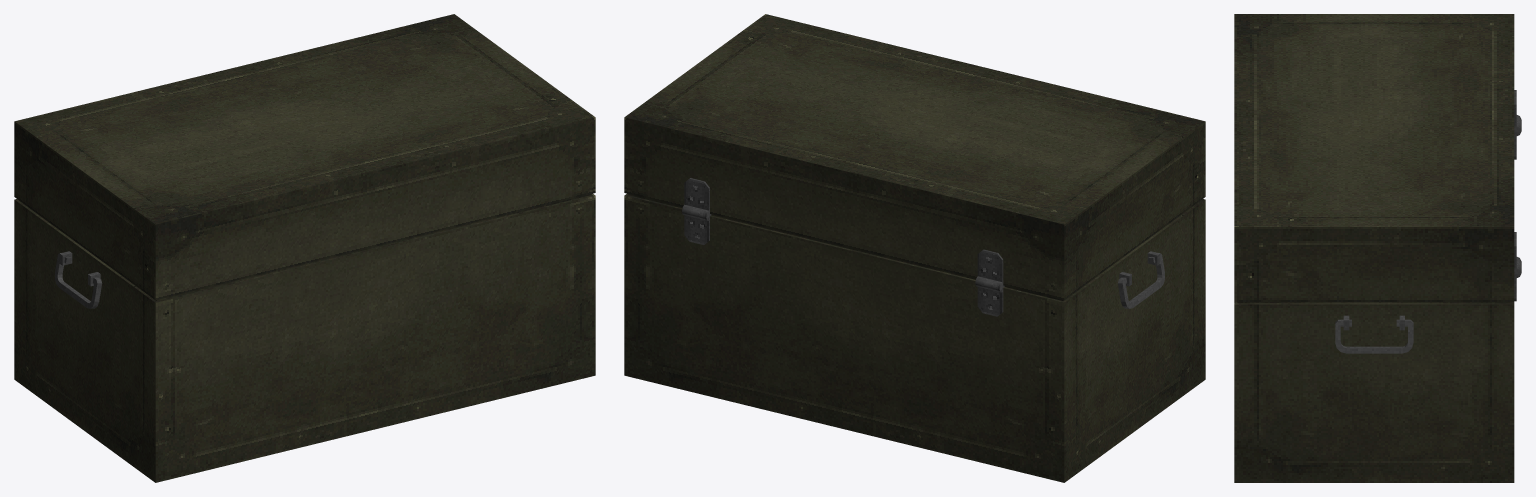
The model's file is wooden_crate_2_a.glb.
3 renders of one model, left to right at view 1: azimuth 30°, elevation 25°; view 2: azimuth 150°, elevation 25°; view 3: azimuth 270°, elevation 25°, orthographic.
Visible parts, largest first — view 1: wooden_crate_2_a, wooden_crate_2_a_lid; view 2: wooden_crate_2_a, wooden_crate_2_a_lid; view 3: wooden_crate_2_a_lid, wooden_crate_2_a.
Boxes of the visible parts, x1,y1,x2,y2 form: wooden_crate_2_a: (14,193,595,482); wooden_crate_2_a_lid: (14,14,595,300); wooden_crate_2_a: (624,193,1205,482); wooden_crate_2_a_lid: (624,14,1205,300); wooden_crate_2_a_lid: (1234,14,1516,303); wooden_crate_2_a: (1234,115,1521,482).
Size of the model in its own units: 0.9492 by 0.505 by 0.513.
1 material, 1 textured.
